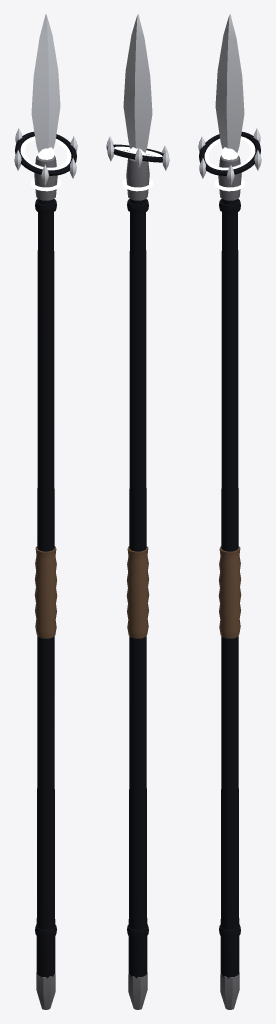
File: esc_w_knight_spear_0.glb
The picture shows the model from 3 angles, left to right: view 1: azimuth 30°, elevation 25°; view 2: azimuth 150°, elevation 25°; view 3: azimuth 330°, elevation 25°; orthographic projection.
Parts seen in each view (by area): view 1: esc_w_knight_spear_0; view 2: esc_w_knight_spear_0; view 3: esc_w_knight_spear_0.
Part boxes in pixels (<box>): esc_w_knight_spear_0: <box>14,14,77,1009</box>; esc_w_knight_spear_0: <box>106,14,169,1009</box>; esc_w_knight_spear_0: <box>198,14,261,1009</box>.
Bounding box in the file's own units: 0.1524 × 2.29 × 0.125.
